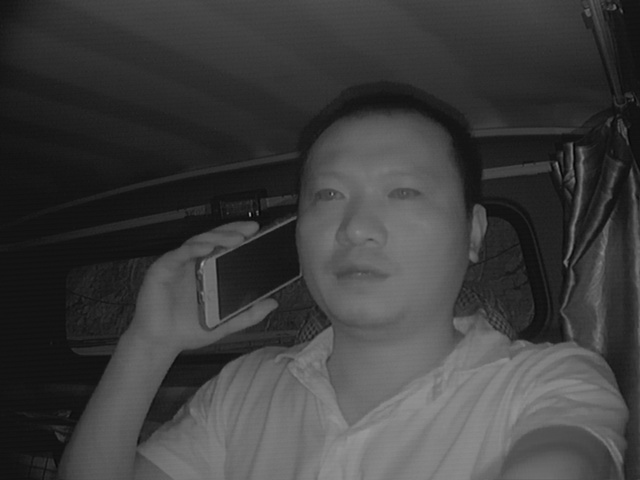hand: (133, 217, 281, 352)
